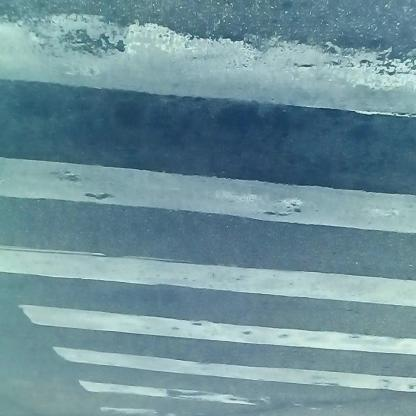crosswalk: (14, 2, 416, 395)
